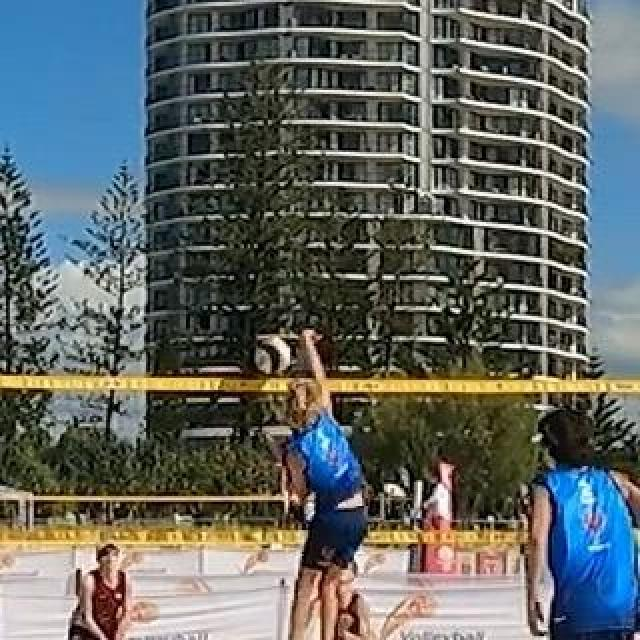volleyball: (253, 335, 291, 375)
